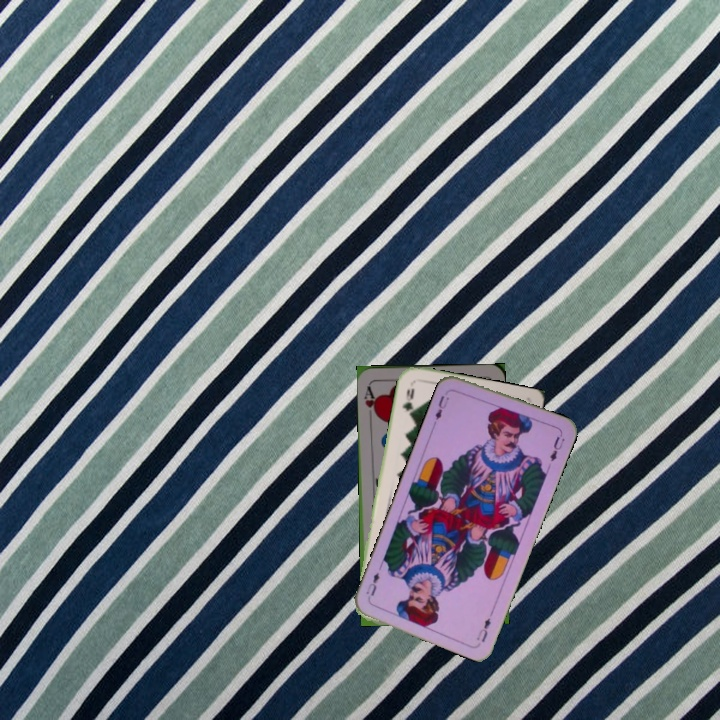EU: (431, 387, 452, 423), (473, 614, 493, 645)
G9: (398, 384, 417, 421)
HA: (360, 381, 380, 421)
